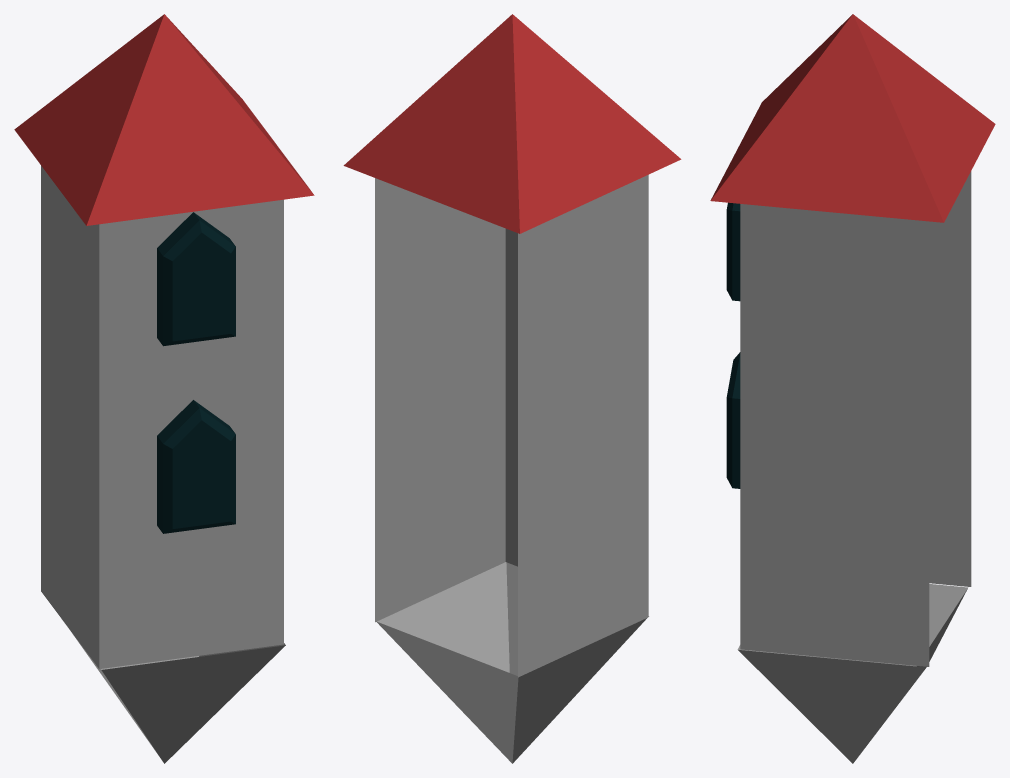
File: TOWER 4.fbx
The picture shows the model from 3 angles, left to right: view 1: azimuth 30°, elevation 25°; view 2: azimuth 150°, elevation 25°; view 3: azimuth 270°, elevation 25°; orthographic projection.
Visible parts, largest first — view 1: TOWER_4; view 2: TOWER_4; view 3: TOWER_4.
Boxes of the visible parts, left/top/right/bottom form: TOWER_4: left=14, top=14, right=314, bottom=763; TOWER_4: left=343, top=14, right=681, bottom=763; TOWER_4: left=710, top=14, right=995, bottom=763.
Bounding box in the file's own units: 107 × 311 × 107.
1 material, 1 textured.
